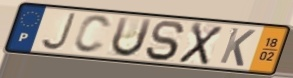C: (71, 14, 113, 55)
J: (39, 11, 79, 51)
K: (217, 26, 258, 69)
S: (143, 19, 187, 63)
U: (109, 15, 155, 59)
X: (175, 21, 225, 67)
